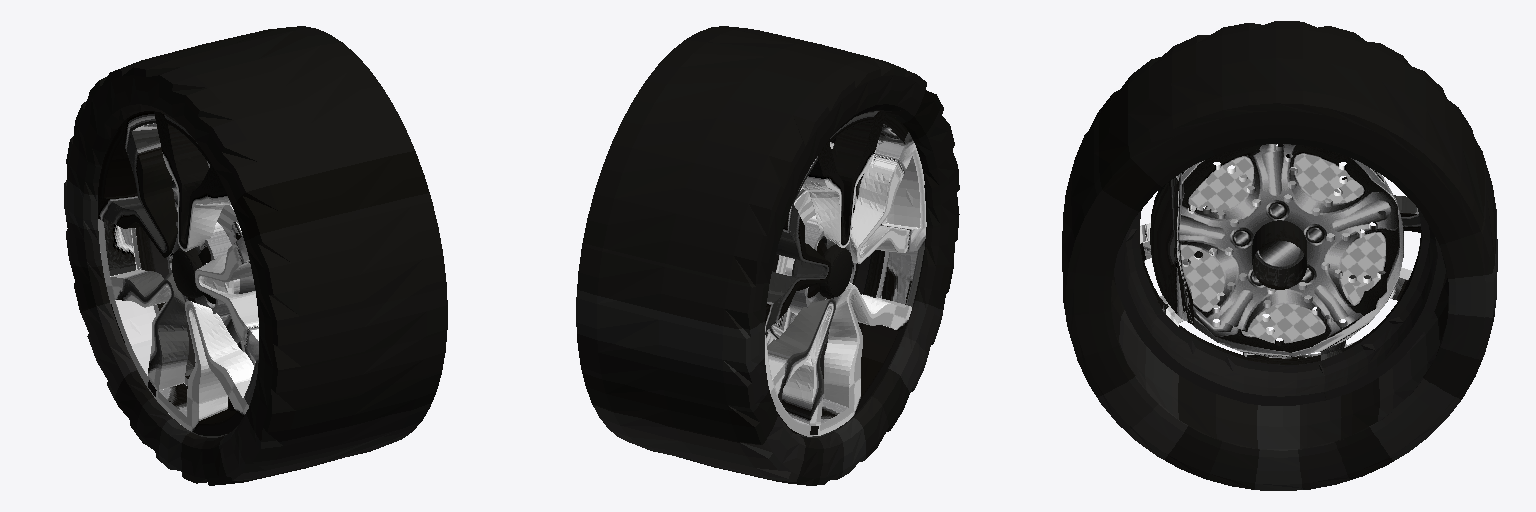
3 views of the same model, side by side, from view 1: azimuth 30°, elevation 25°; view 2: azimuth 150°, elevation 25°; view 3: azimuth 270°, elevation 25° (orthographic).
Visible parts, largest first — view 1: audi_r8.005; view 2: audi_r8.005; view 3: audi_r8.005.
Boxes of the visible parts, box(x1,y1,x2,y2) form: audi_r8.005: box(64, 26, 447, 485); audi_r8.005: box(576, 26, 959, 485); audi_r8.005: box(1062, 21, 1497, 490).
Size of the model in its own units: 0.963 by 2.11 by 2.11.
Materials: 1 (1 with a texture image).